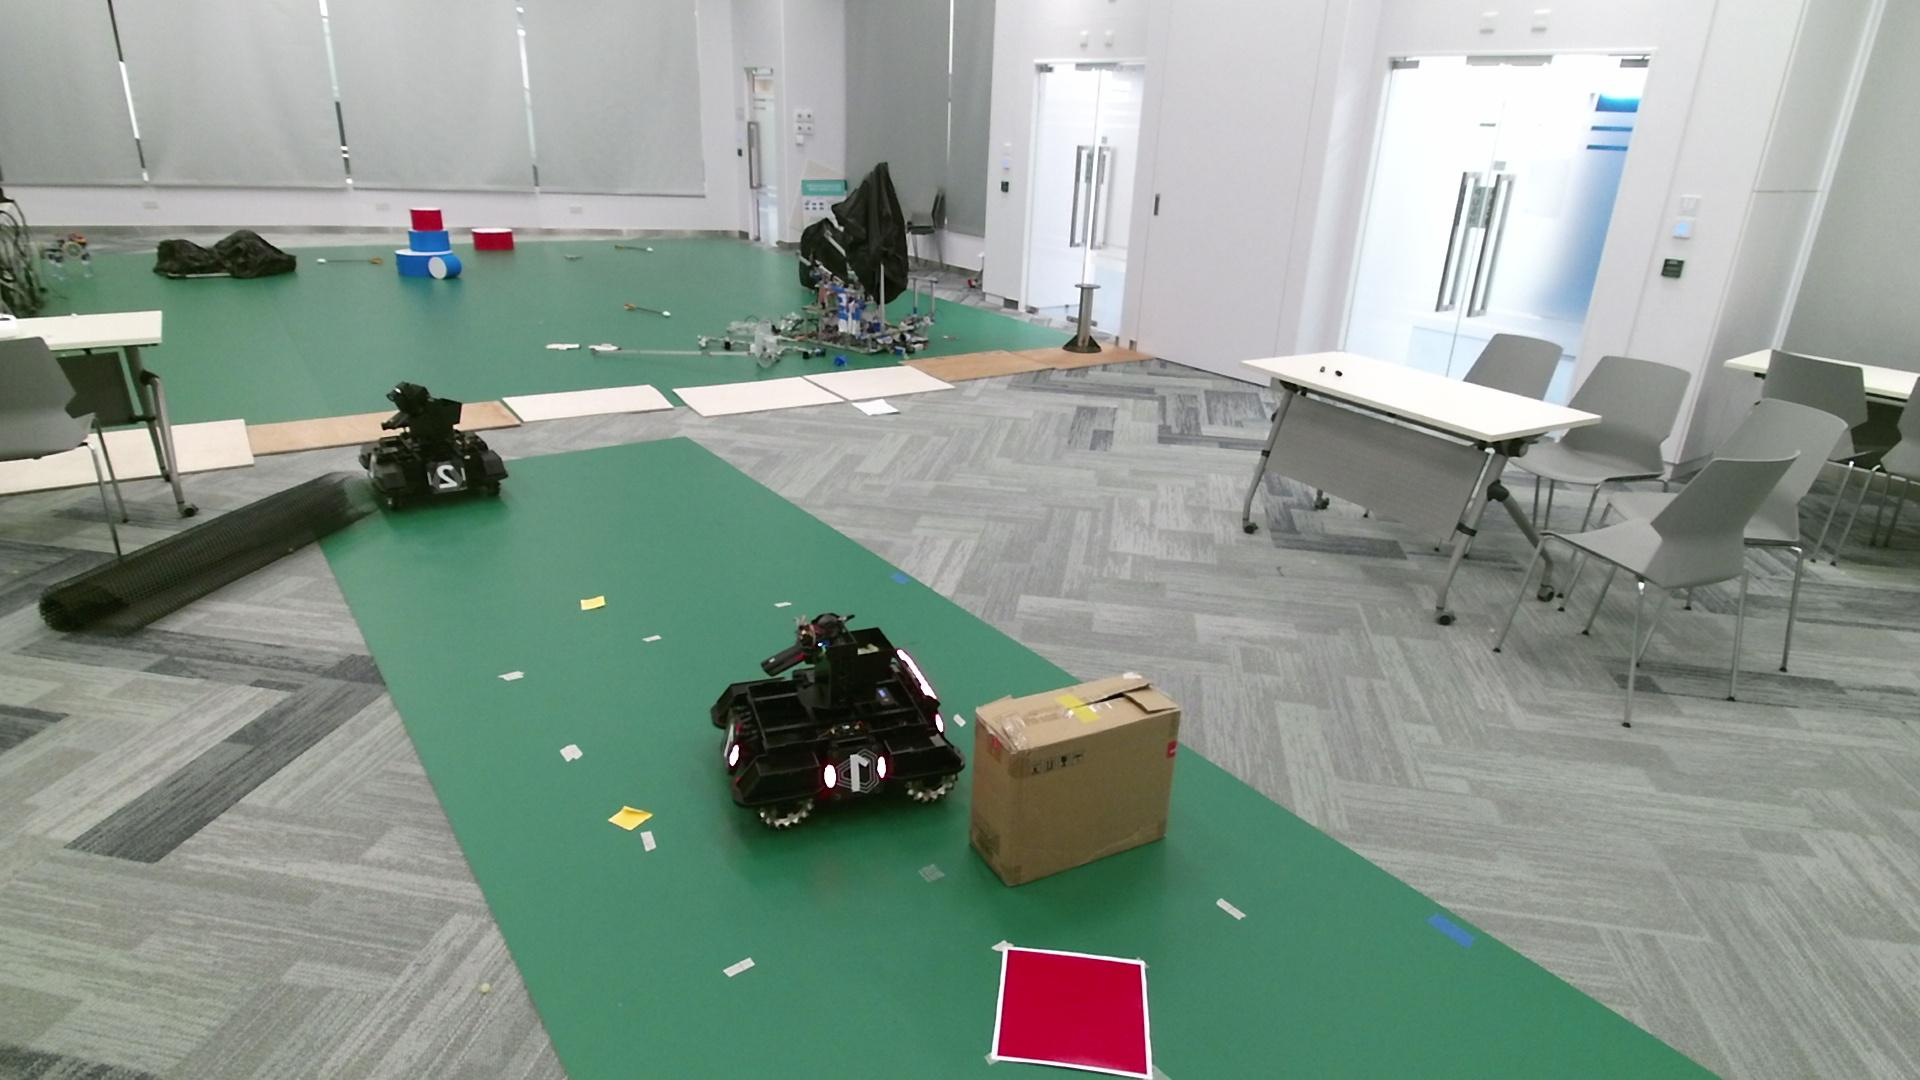robot: (709, 609, 968, 833), (357, 378, 506, 516)
